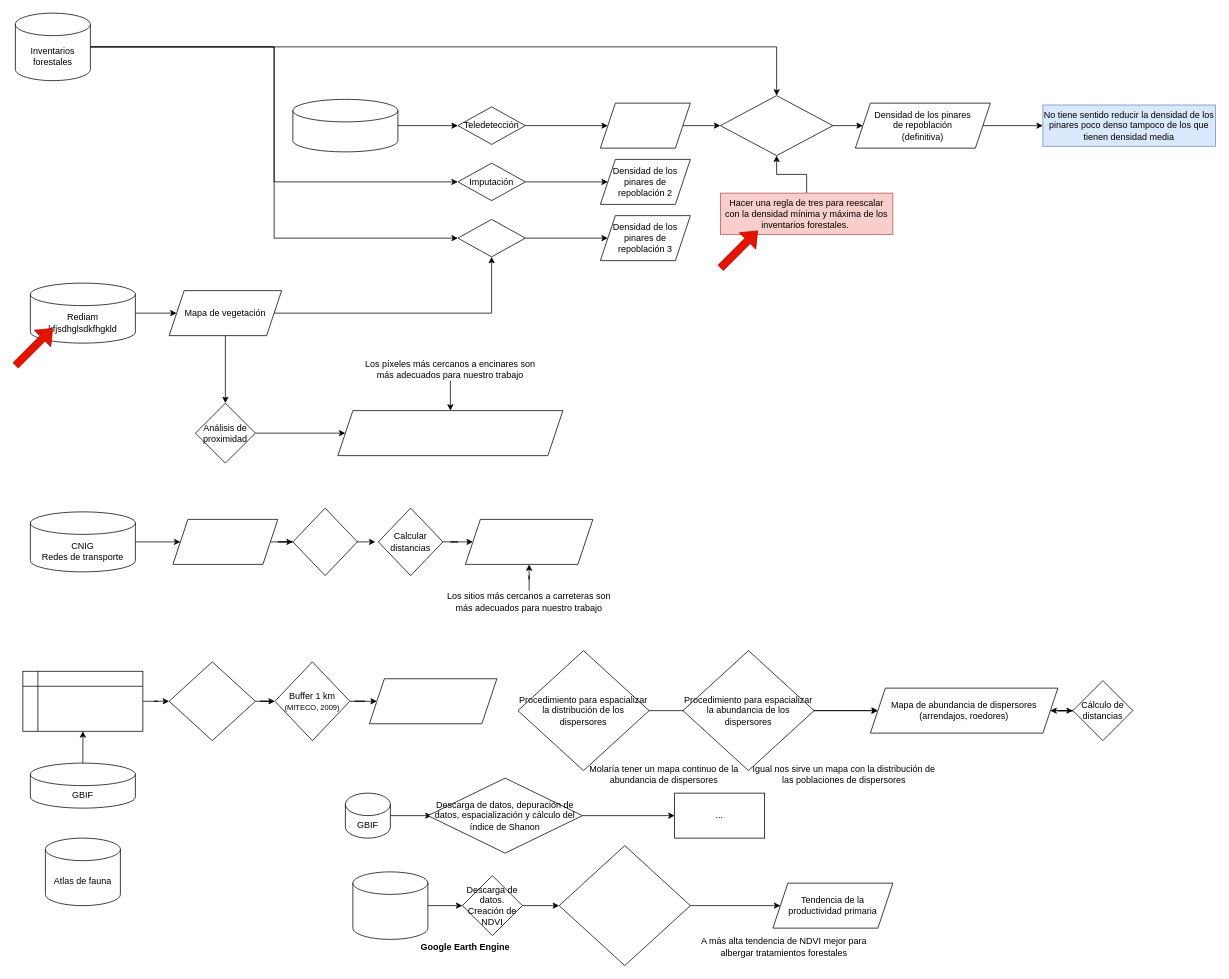
This 1229x979 diagram has some shape labels left out. Here are the shapes that lost their labels. From the top down, the centre of each, then its label:
At point 345,125: "Imágenes de satélite Copernicus".
At point 645,125: "Densidad de los pinares de repoblación 1".
At point 776,125: "Cambio de unidades (% a pies/ha)".
At point 491,238: "Interpolación".
At point 450,433: "Mapa de proximidad (distancia de cada píxel con encinas más cercano)".
At point 225,541: "Mapa de carreteras".
At point 324,541: "Convertir a ráster".
At point 529,541: "Mapa de distancias a carreteras".
At point 82,700: "Distribución Garrulus glandarius (Darwin Core Archive)".
At point 211,701: "Crear capa a partir de texto delimitado".
At point 433,701: "Criterio idoneidad según dispersores de semillas".
At point 390,905: "Landsat o Sentinel".
At point 624,905: "Caracterización de la serie temporal y creación de tendencia".
